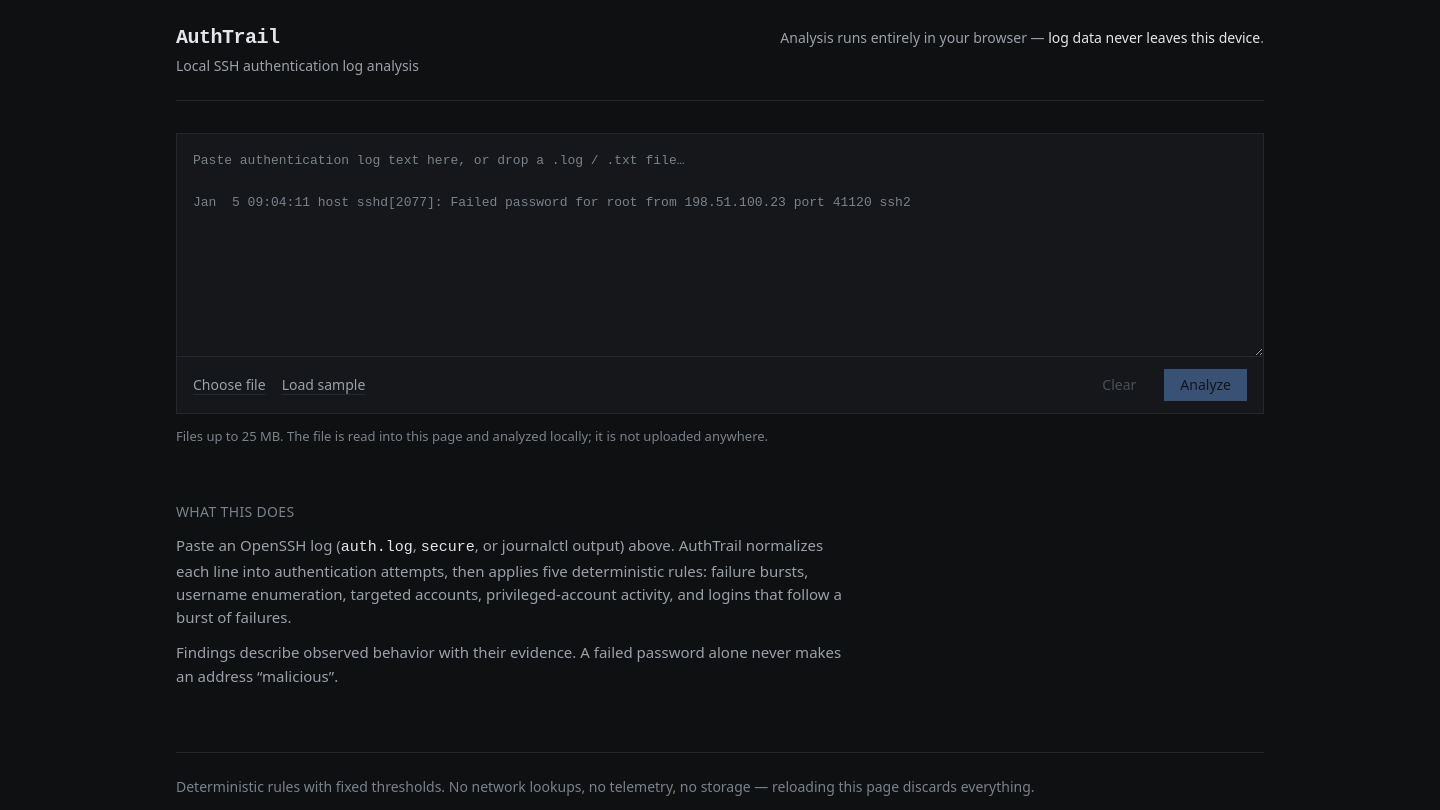
Test: AuthTrail UI › keyboard-toggles a raw log line open and closed
Replace the text in the text box labelled "Paste authentication log" with "Jan  5 10:00:00 host sshd[8001]: Failed password for root from 10.9.9.9 port 22 ssh2" at (720, 245), box [177,134,1263,356]
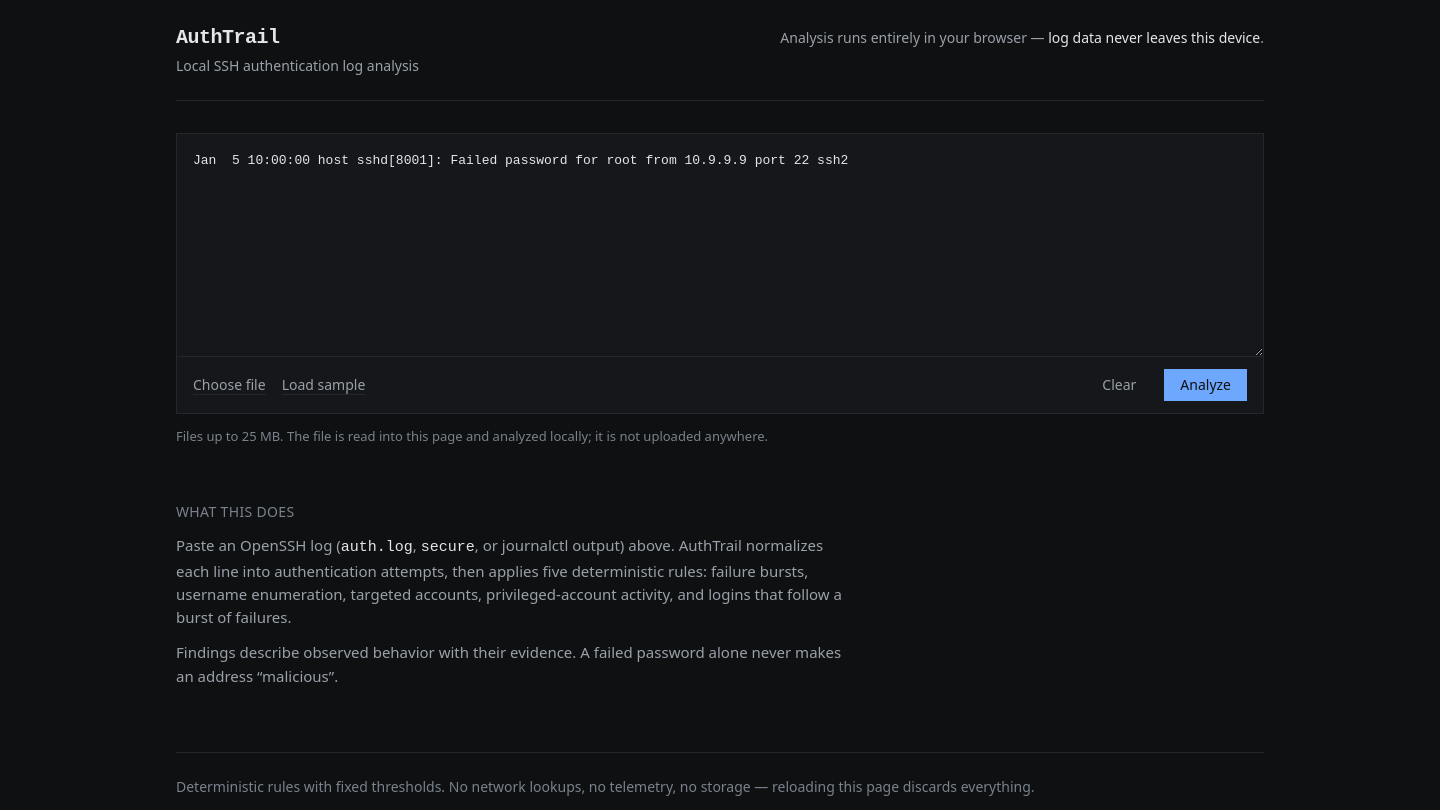
Click the button "Analyze".
click(1206, 385)  # box [1164,369,1247,401]
(page scrolled)
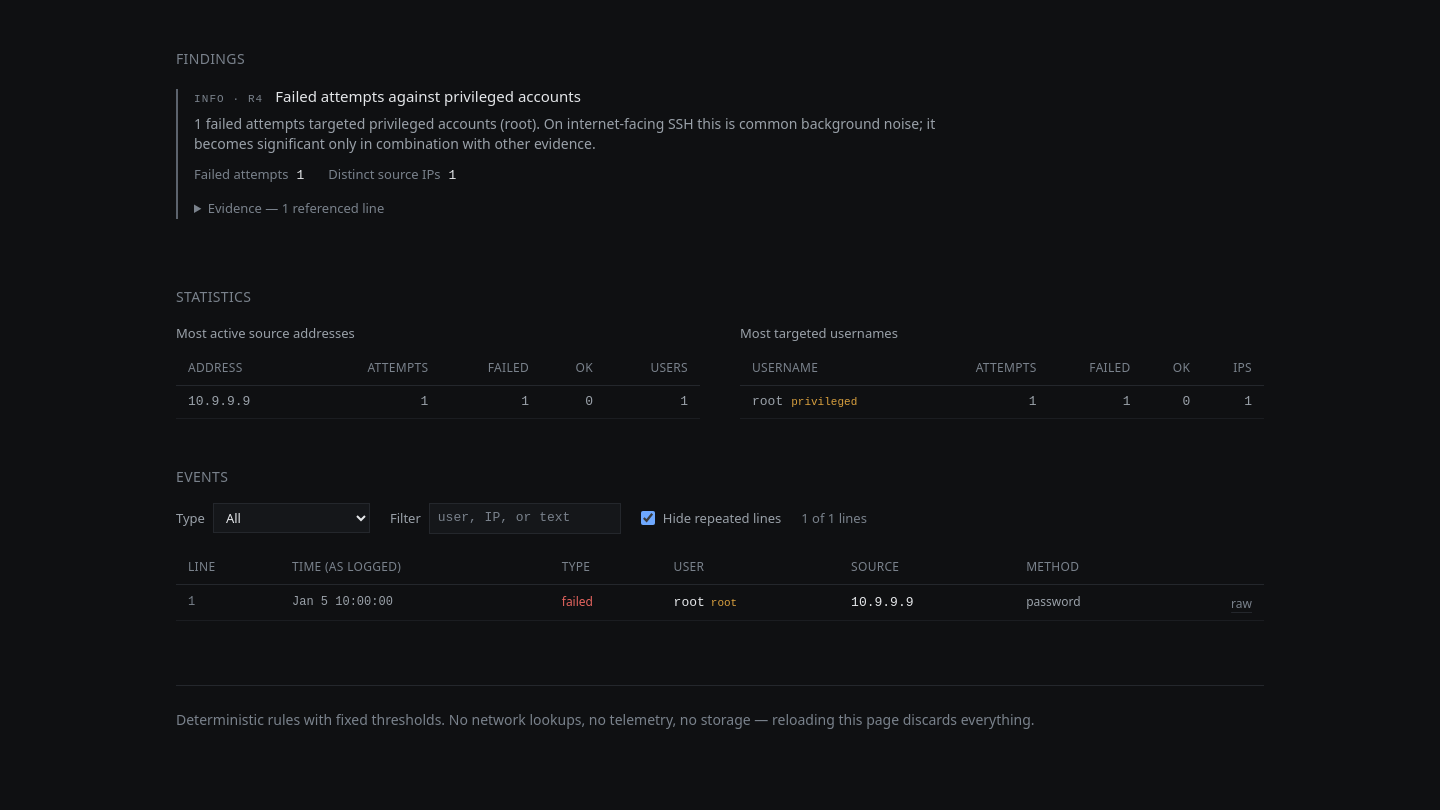
Click the button with aria-label "raw line 1".
click(1242, 604)  # box [1231,595,1252,614]
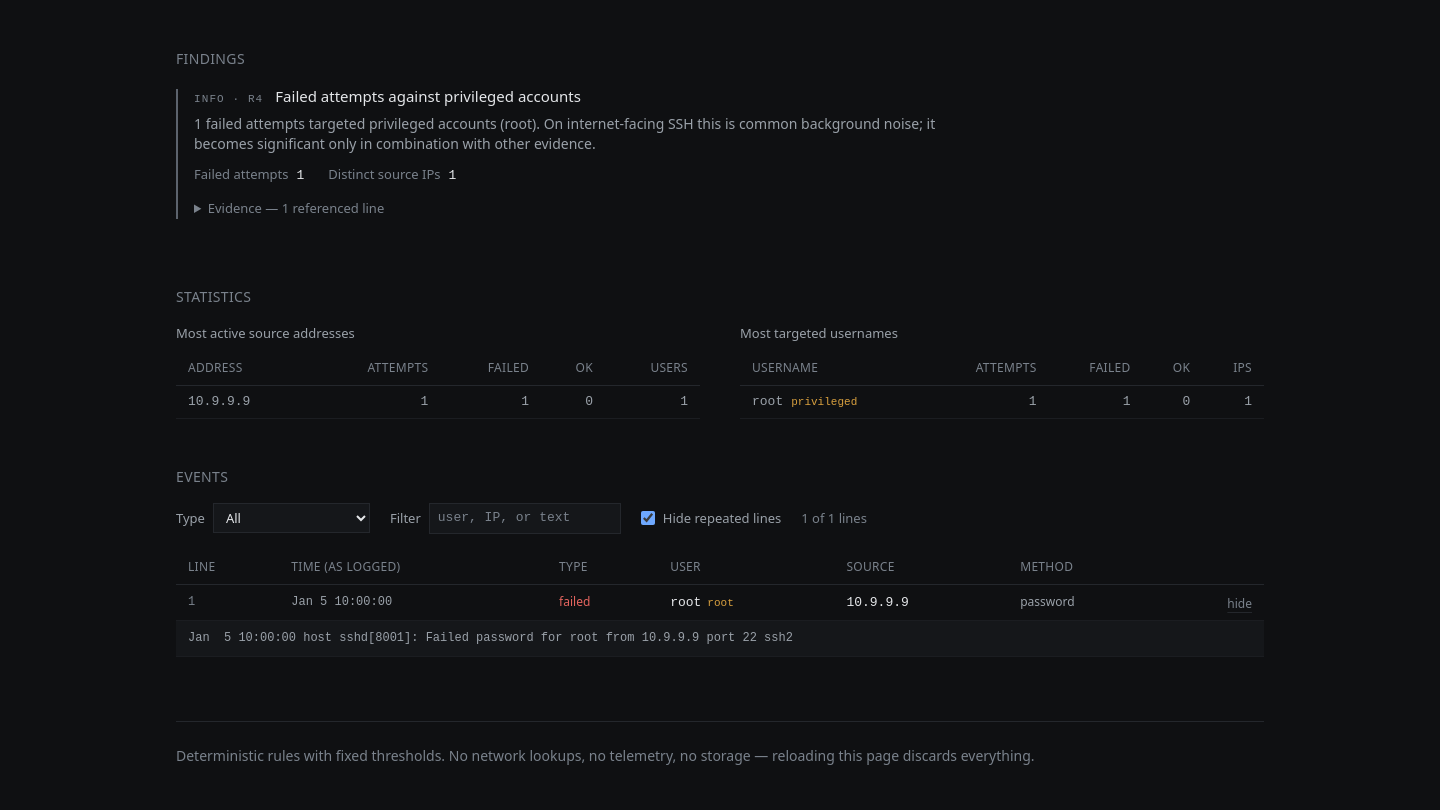
Now the button with aria-label "raw line 1" is expanded, box [1227,595,1252,614]
